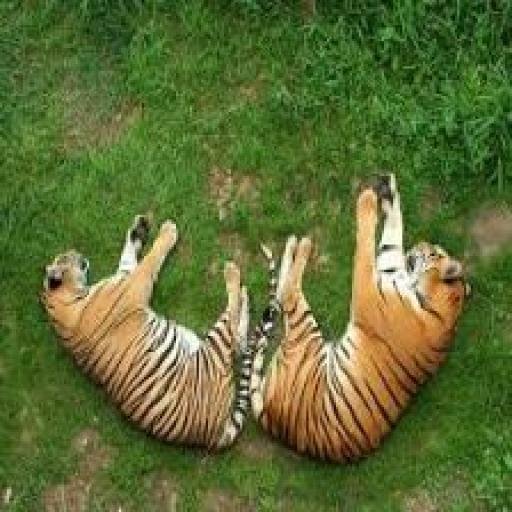Tiger: (21, 192, 257, 488), (293, 192, 482, 483)
